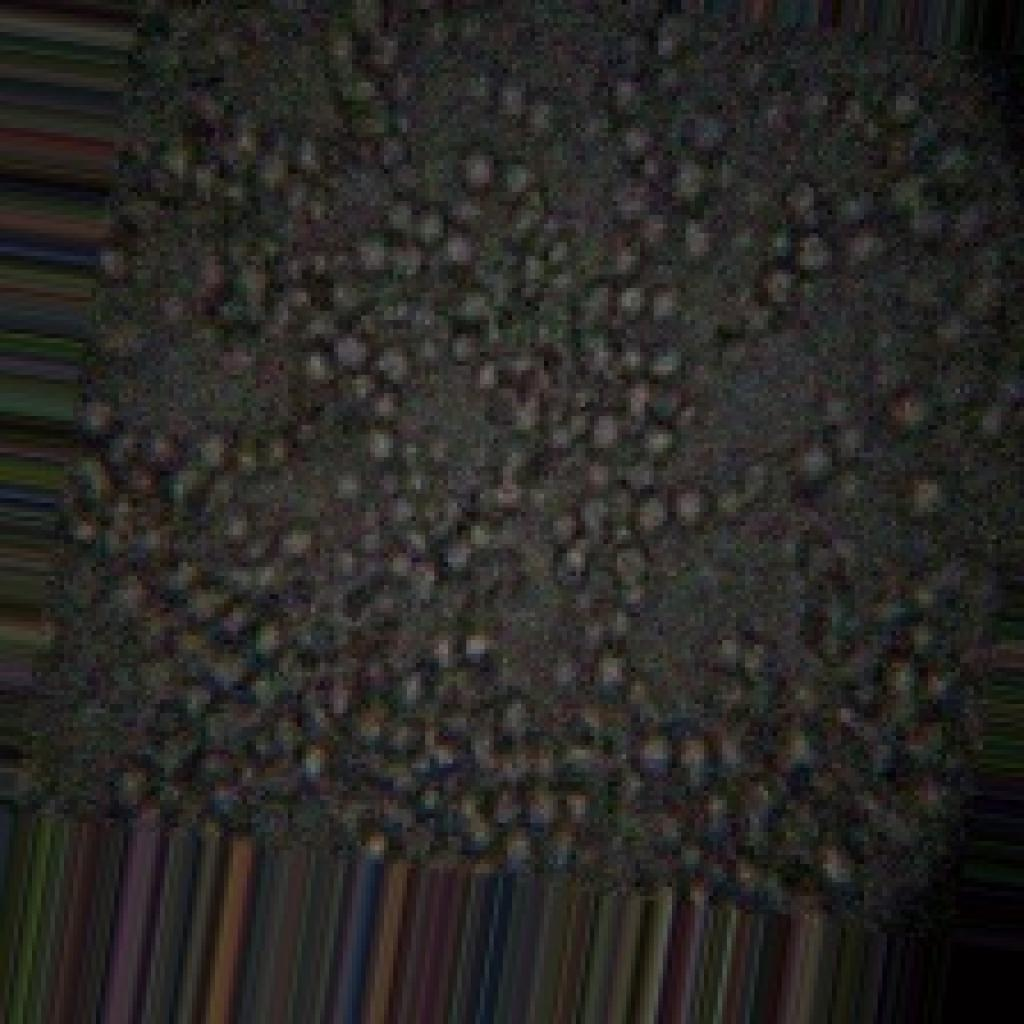Yeast: (65, 28, 973, 908)
